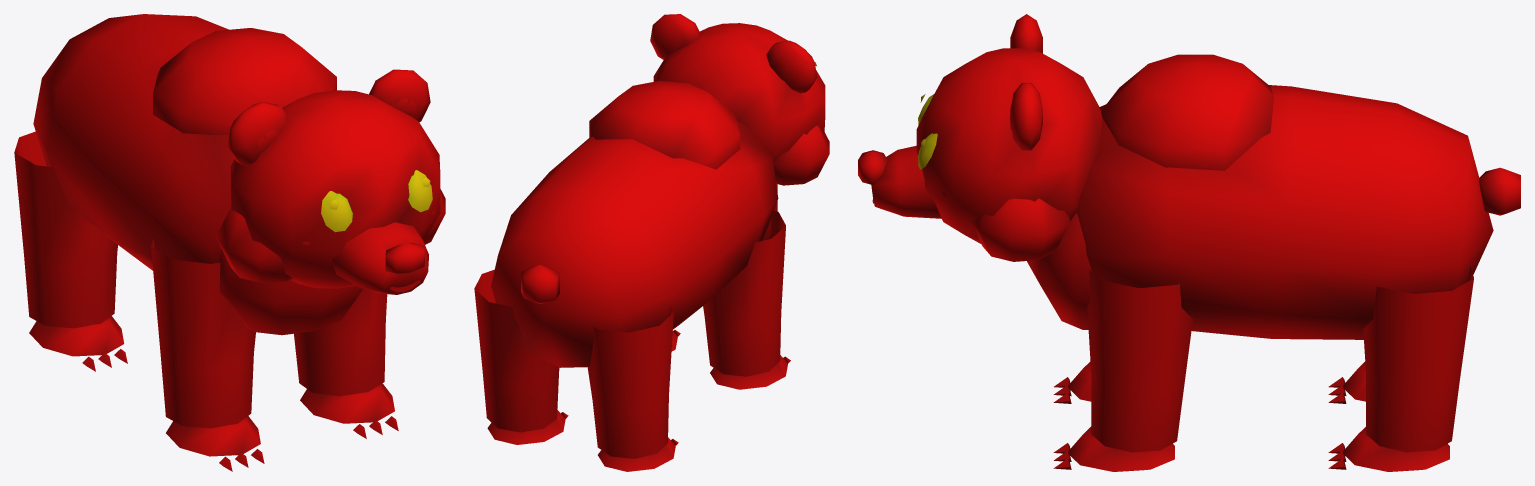
File: BearAnimal.glb
The picture shows the model from 3 angles, left to right: view 1: azimuth 30°, elevation 25°; view 2: azimuth 150°, elevation 25°; view 3: azimuth 270°, elevation 25°; orthographic projection. The views are drawn at different scales.
Visible parts, largest first — view 1: BearAnimal; view 2: BearAnimal; view 3: BearAnimal.
Part boxes in pixels (<box>): BearAnimal: <box>14,14,445,471</box>; BearAnimal: <box>474,14,829,471</box>; BearAnimal: <box>858,14,1520,471</box>.
Bounding box in the file's own units: 0.4436 × 0.7052 × 1.12.
